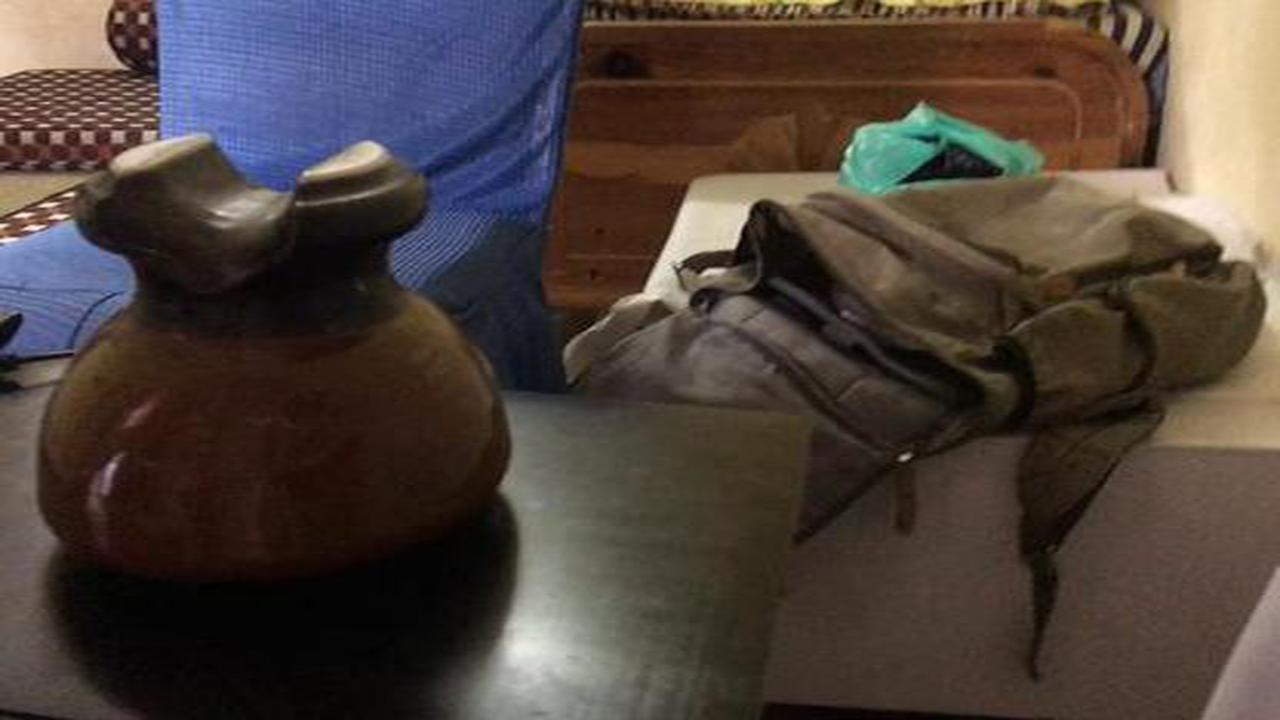insulator_pin: (24, 127, 524, 610)
